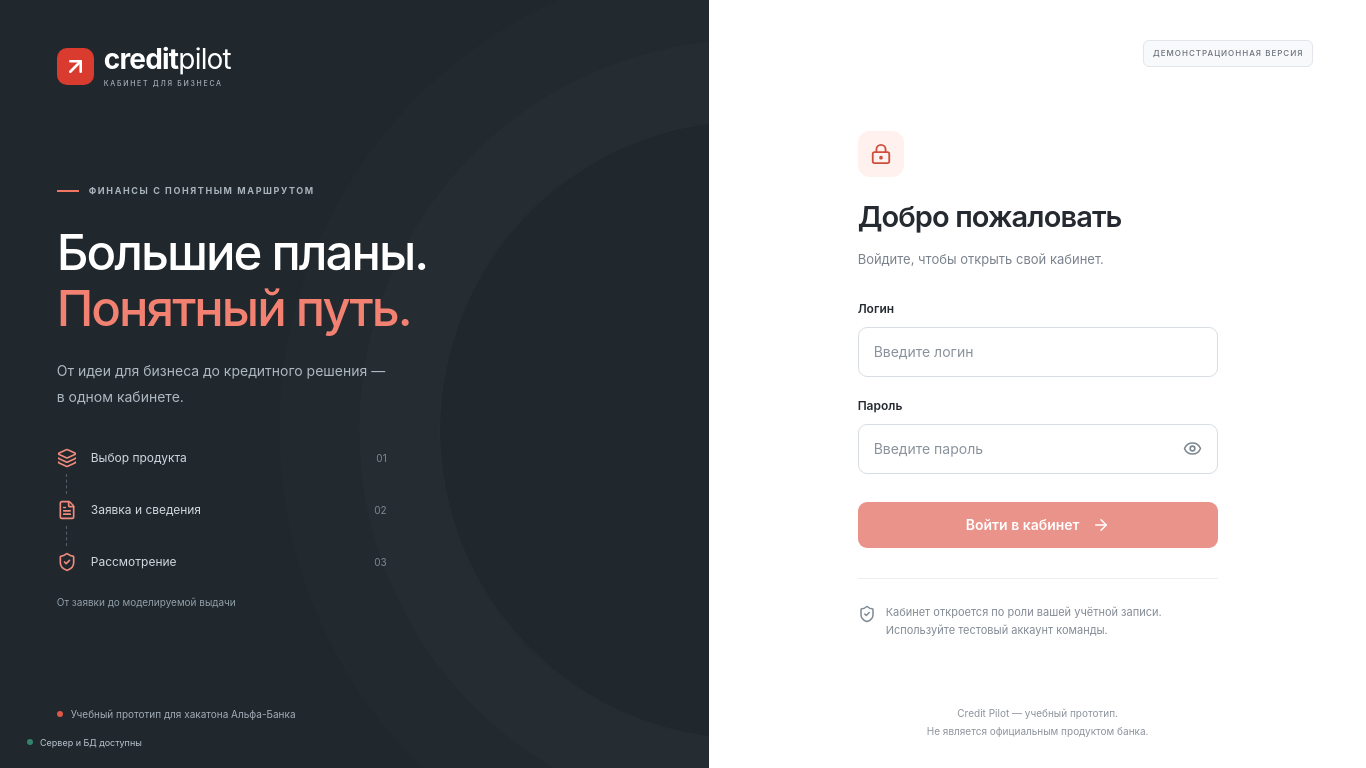
серверная сессия и навигация › вход CLIENT использует серверную роль и cookie
The width and height of the screenshot is (1366, 768).
Type "client-a" into the field labelled "Логин" at x=1038, y=352, box [858,327,1218,377]
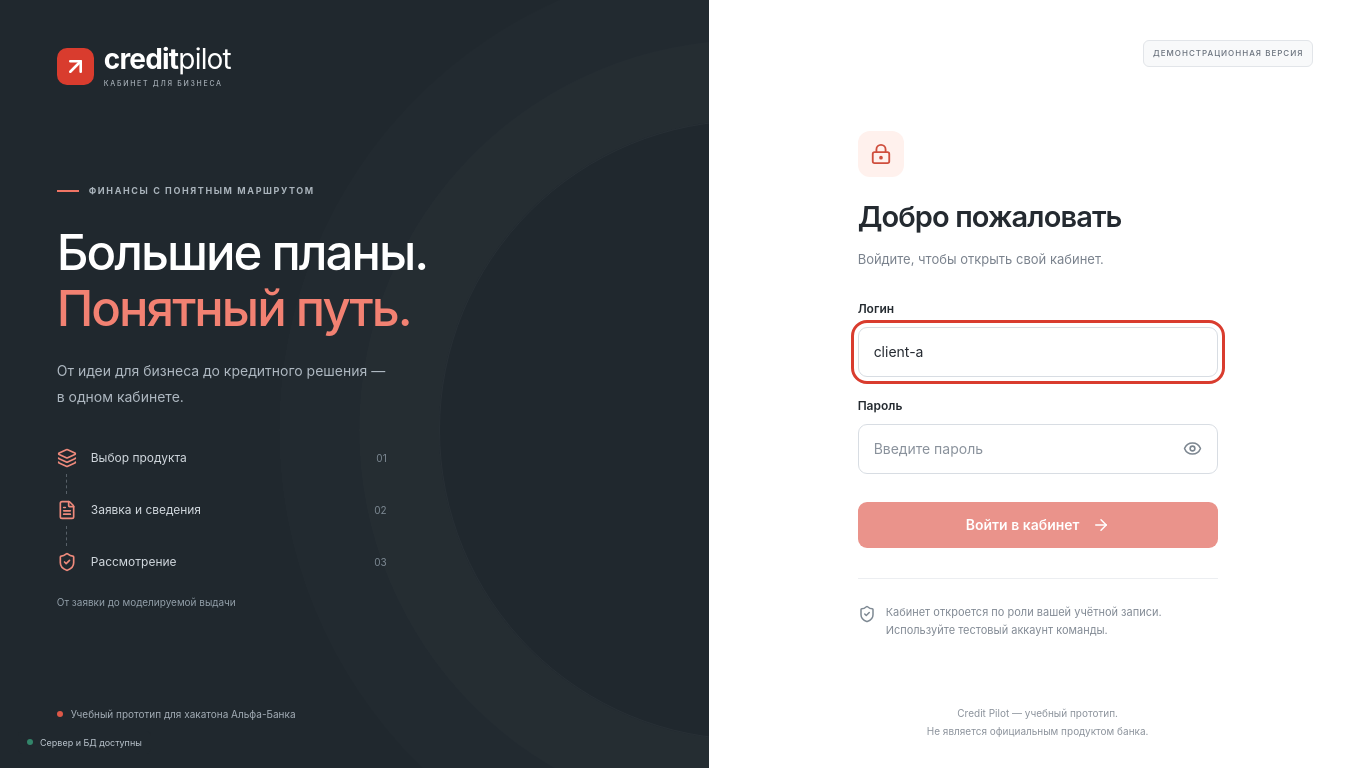
Type "test-input" into the password field labelled "Пароль" at x=1038, y=449, box [858,424,1218,474]
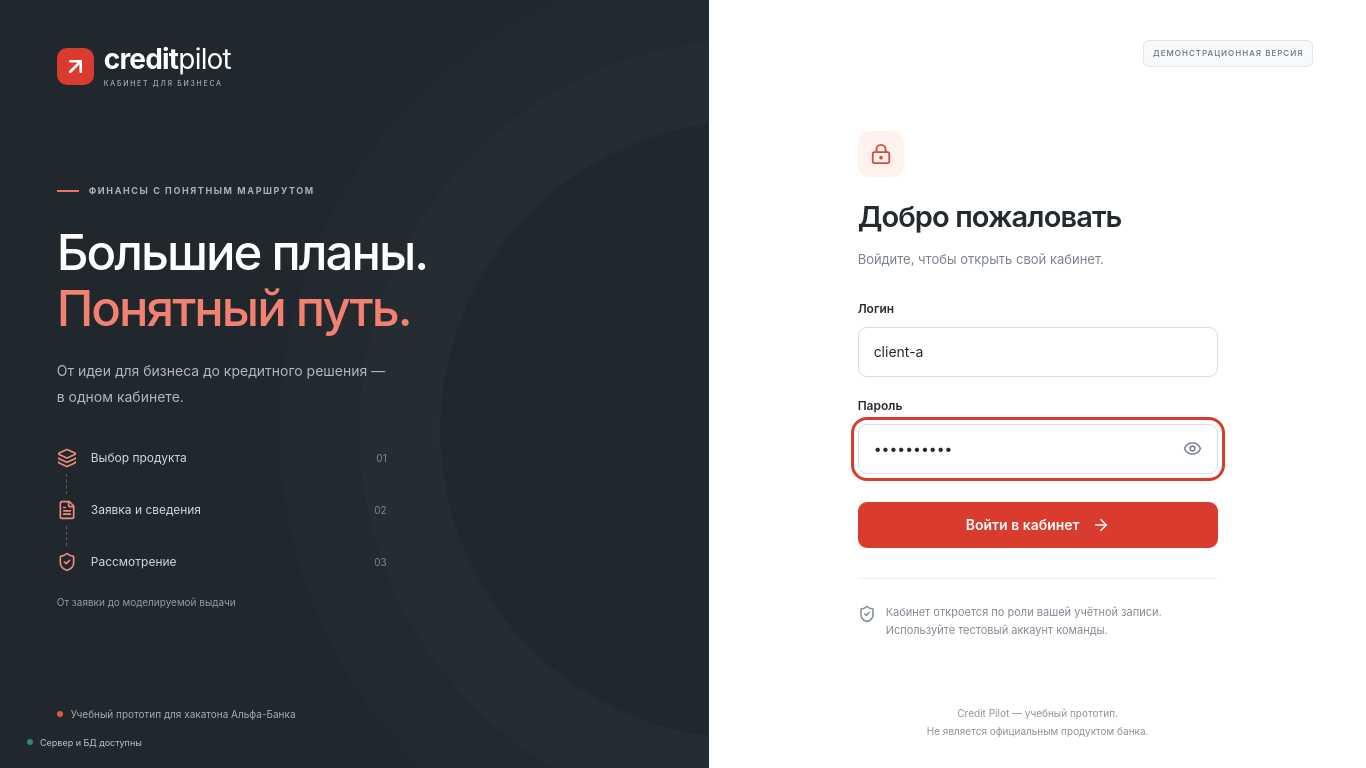
Click the button "Войти в кабинет" at x=1038, y=525, box [858,502,1218,548]
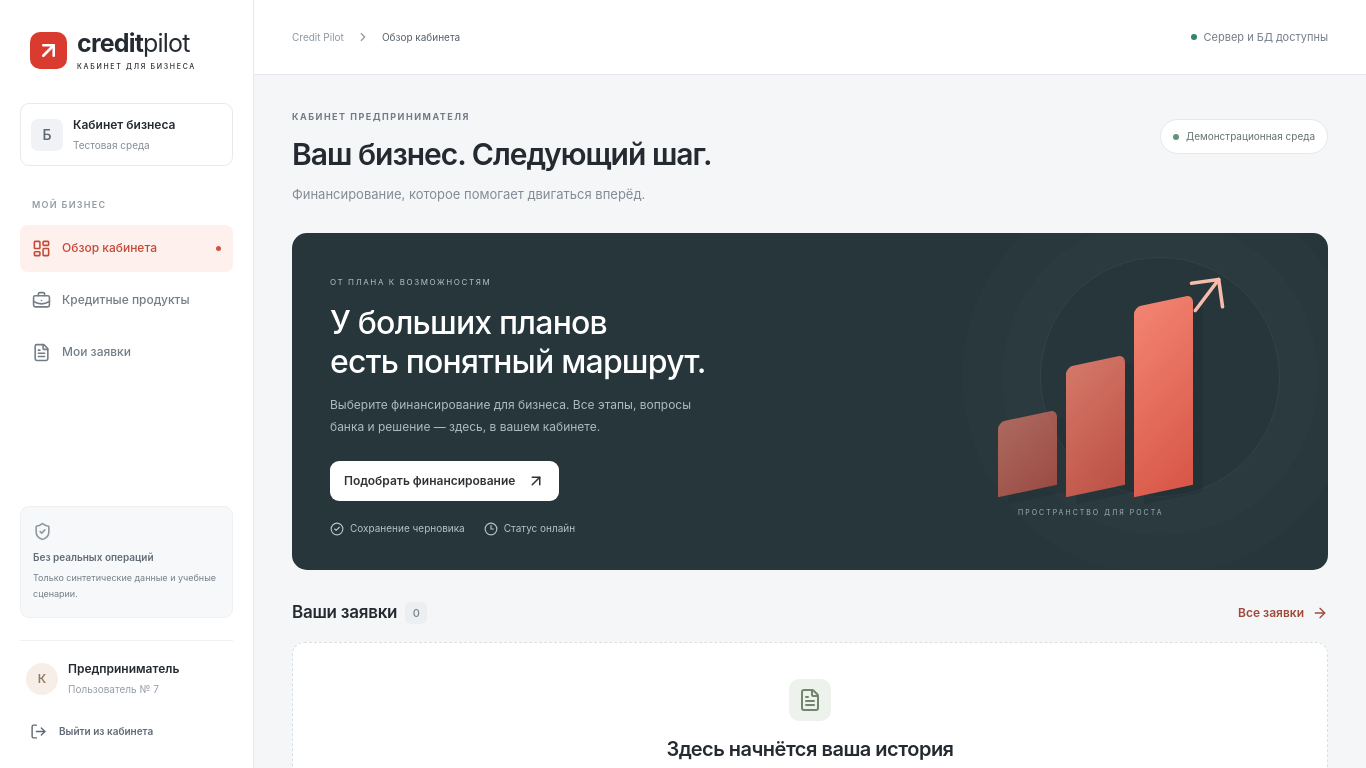
Result: the label is gone
